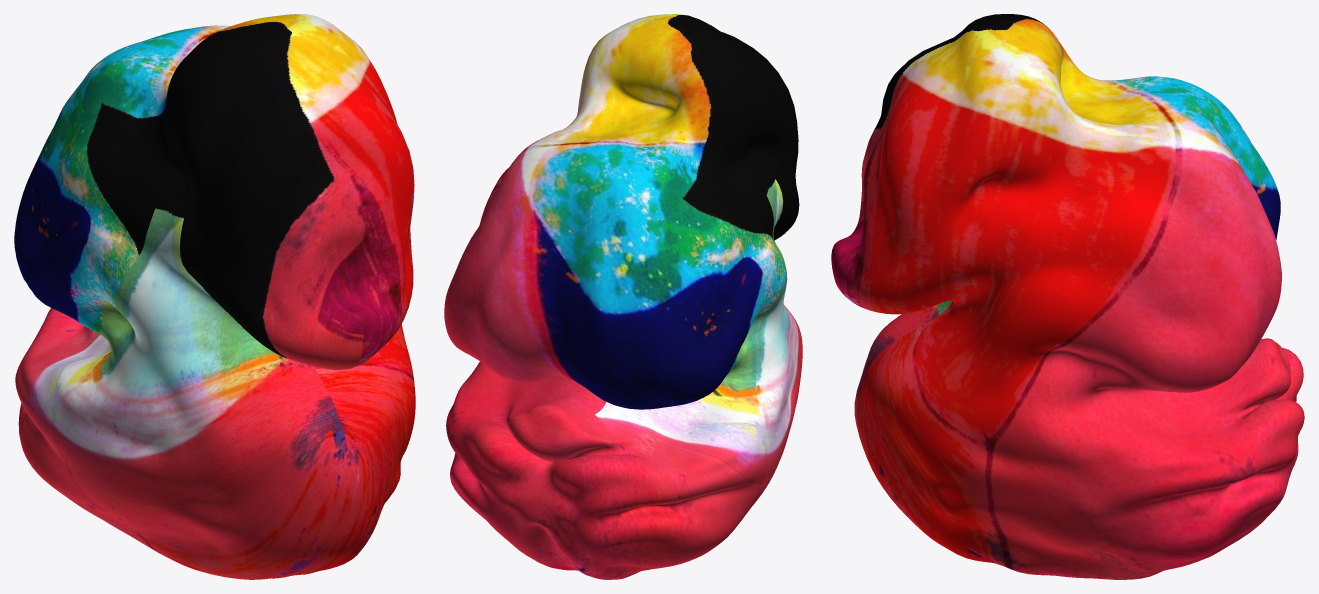
3 renders of one model, left to right at view 1: azimuth 30°, elevation 25°; view 2: azimuth 150°, elevation 25°; view 3: azimuth 270°, elevation 25°, orthographic. The views are drawn at different scales.
Visible parts, largest first — view 1: Group1668; view 2: Group1668; view 3: Group1668.
Part boxes in pixels (x1,y1,x2,y2): Group1668: [14, 14, 415, 579]; Group1668: [444, 14, 802, 579]; Group1668: [831, 14, 1304, 579].
Size of the model in its own units: 1.35 by 2.27 by 1.8.
Materials: 1 (1 with a texture image).
